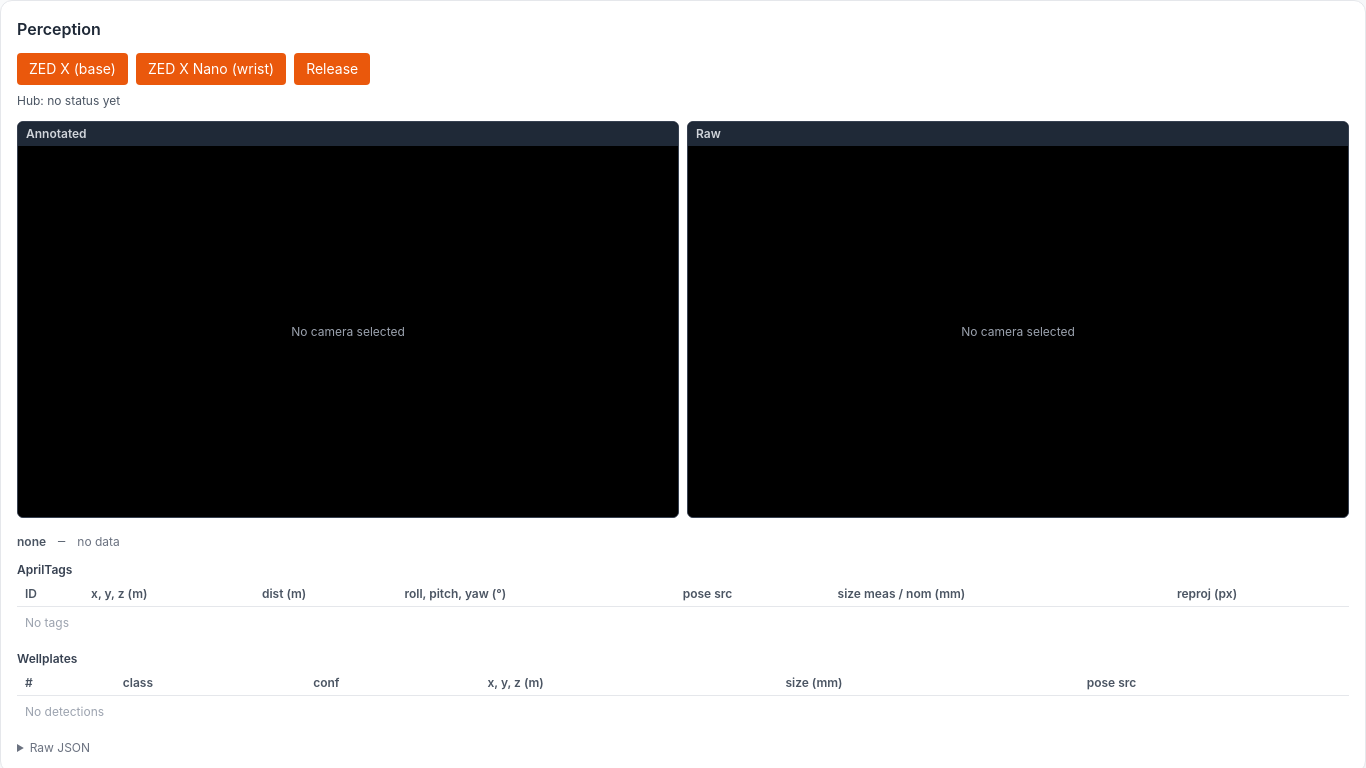
it: a switch with no reply times out instead of locking the buttons
What coordinates should you click on to do the following:
click the button "ZED X (base)"
I would click on:
 (72, 69)
Its box is [17,53,128,85].
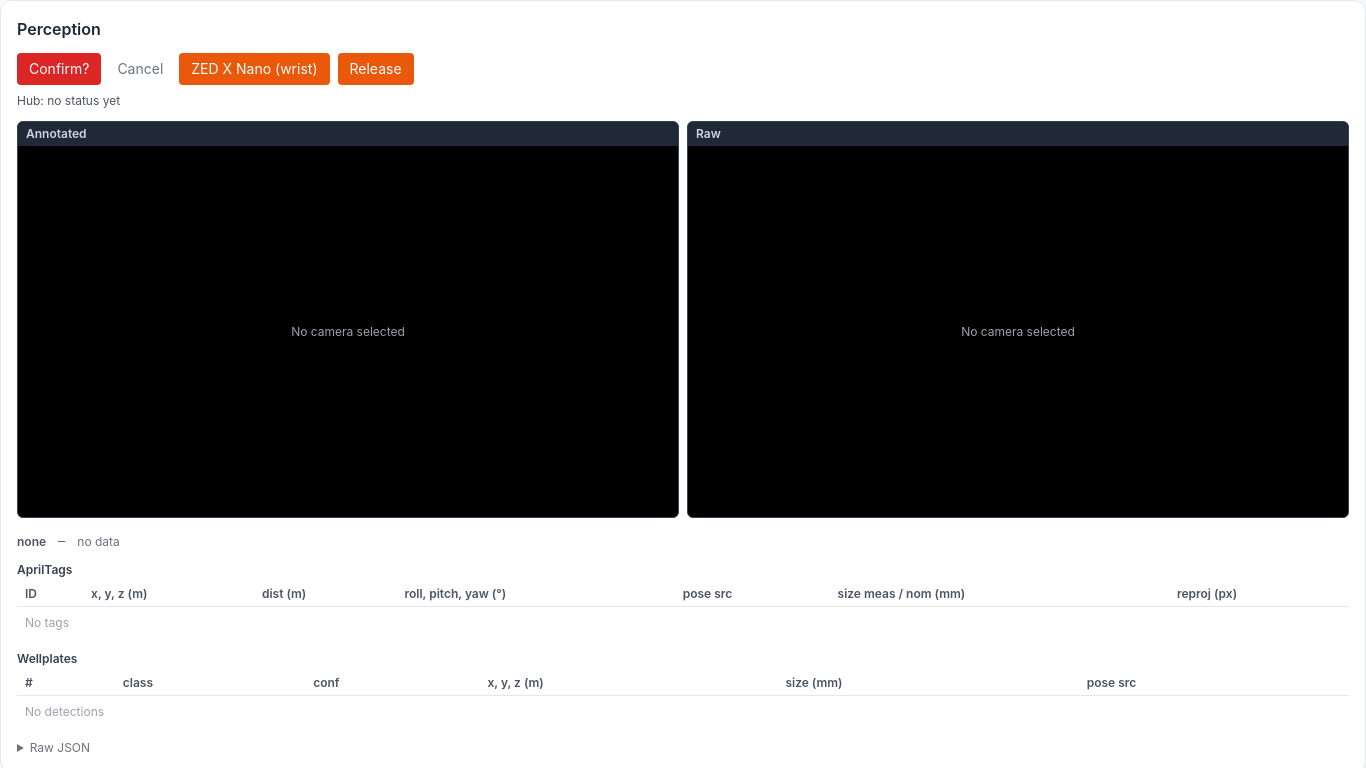
What coordinates should you click on to do the following:
click the button "Confirm?"
I would click on:
 (59, 69)
Its box is [17,53,101,85].
Wait 50000 ms
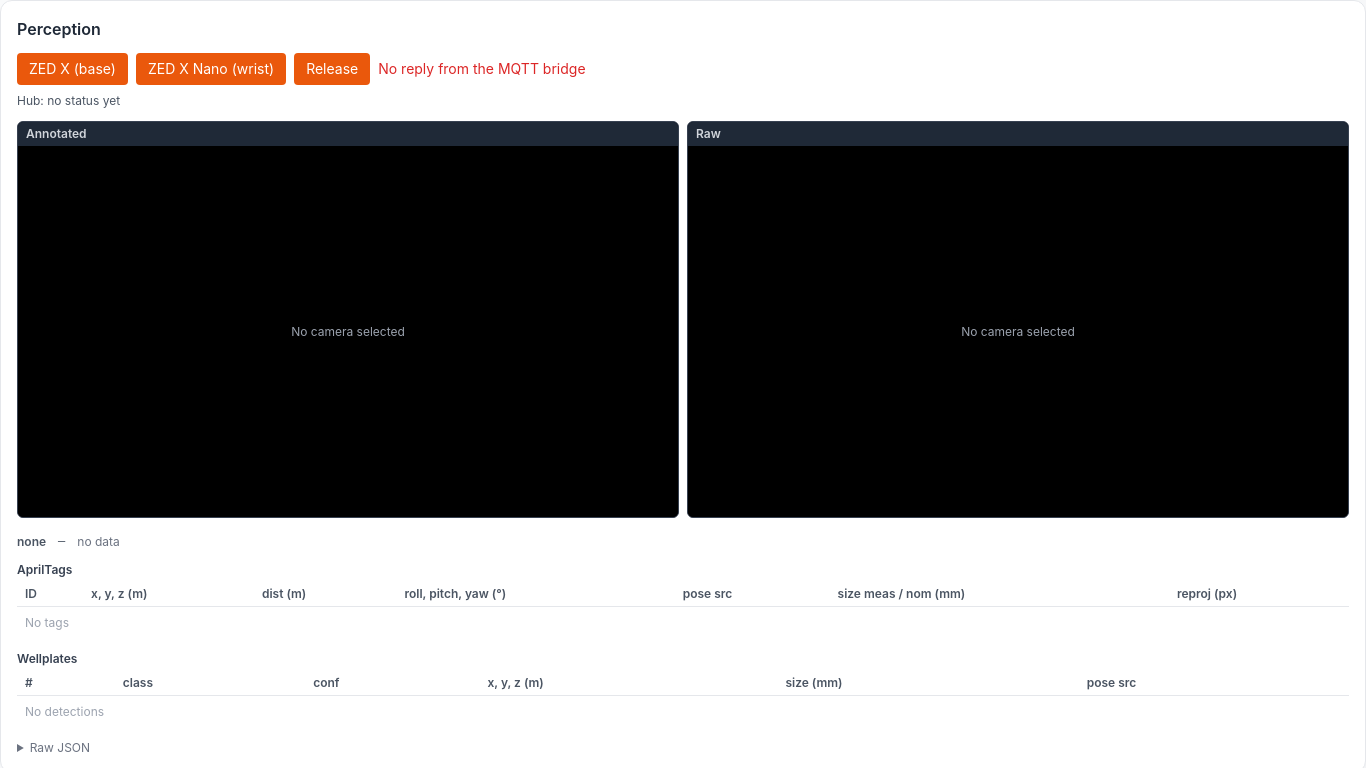
Result: the text "No reply from the MQTT bridge" is shown at [378,59,586,79]
